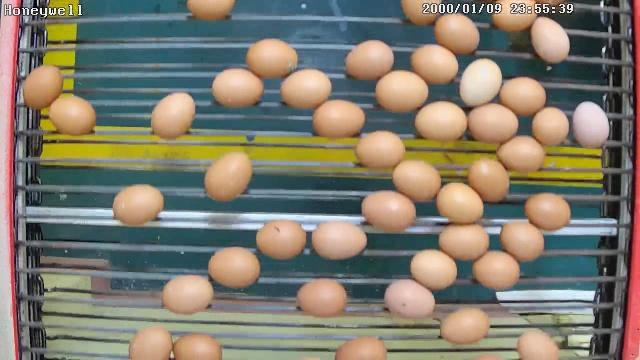egg: (308, 216, 369, 264), (202, 148, 254, 204), (358, 188, 418, 233), (413, 98, 468, 145), (373, 69, 429, 115), (464, 100, 520, 146), (383, 276, 438, 322), (390, 157, 442, 205), (206, 245, 261, 290), (111, 182, 163, 229), (255, 216, 308, 262), (245, 38, 299, 82), (160, 273, 215, 316), (310, 99, 365, 142), (150, 91, 197, 141), (47, 91, 97, 138), (344, 38, 396, 83), (438, 305, 492, 348), (210, 66, 264, 109), (471, 248, 522, 293), (408, 42, 459, 87), (494, 132, 546, 176), (296, 276, 348, 320), (280, 68, 332, 112), (438, 220, 492, 262), (465, 156, 512, 204), (435, 181, 485, 226), (458, 56, 503, 106), (353, 129, 406, 171), (409, 248, 458, 292), (498, 75, 548, 118), (499, 219, 546, 264), (433, 13, 482, 56), (524, 190, 572, 233), (530, 15, 572, 64), (572, 98, 610, 152), (21, 64, 63, 112), (530, 105, 572, 150)
